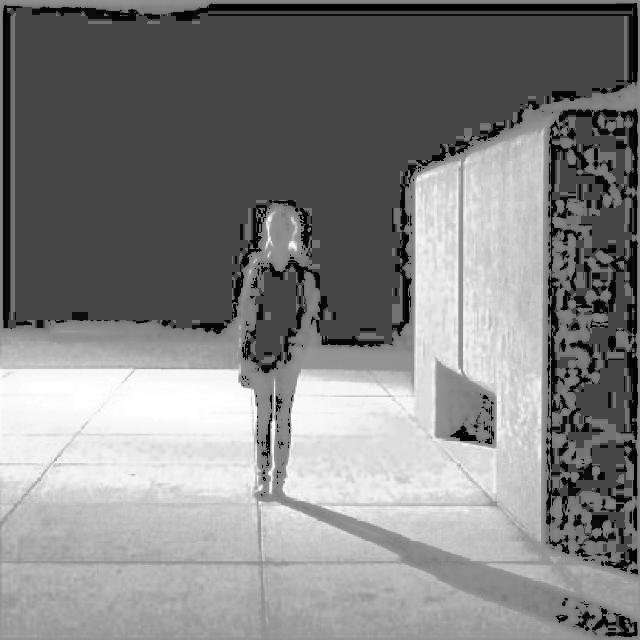Person: (230, 197, 321, 502)
